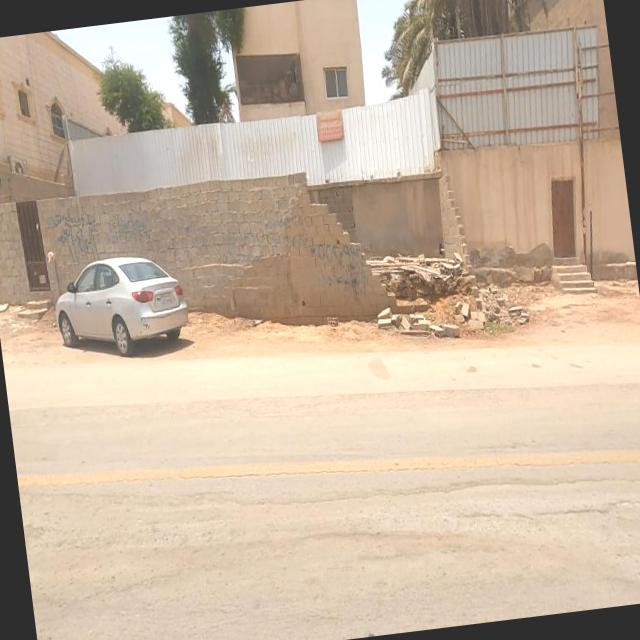debris: (318, 244, 486, 393), (0, 168, 205, 287), (406, 222, 561, 372), (257, 194, 388, 322), (367, 200, 468, 318)
